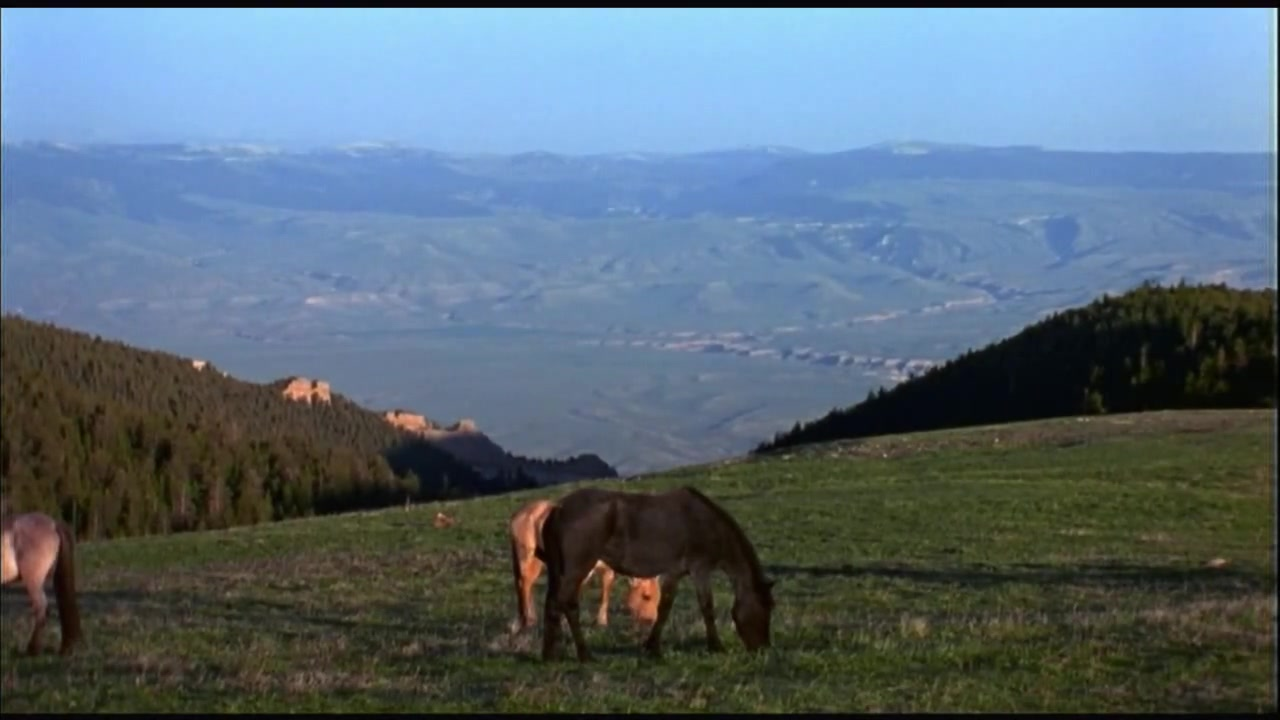horse: (542, 485, 780, 664)
